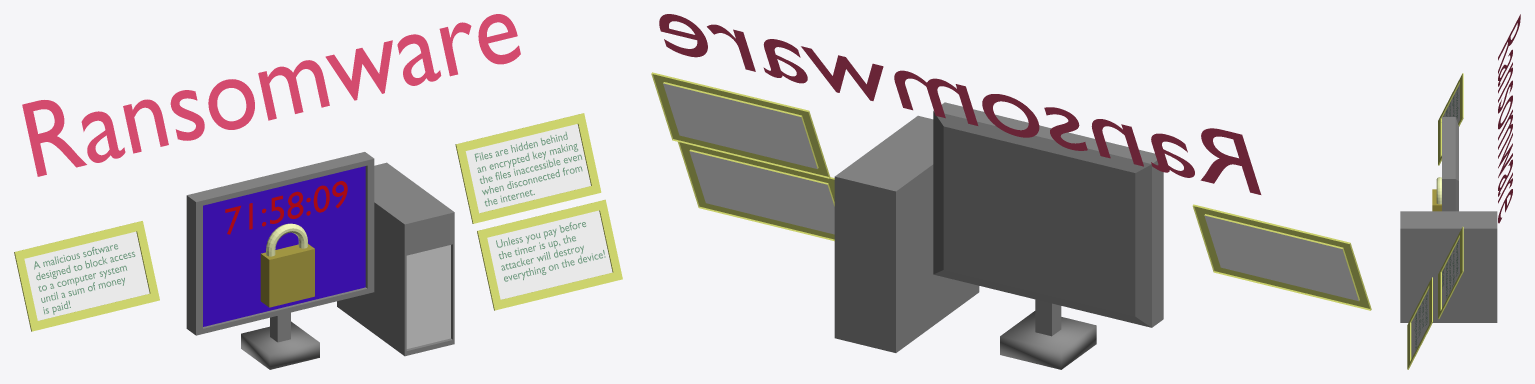
Rendered from ransomwarev3___1630909672457.glb.
3 views of the same model, side by side, from view 1: azimuth 30°, elevation 25°; view 2: azimuth 150°, elevation 25°; view 3: azimuth 270°, elevation 25° (orthographic). The views are drawn at different scales.
Visible parts, largest first — view 1: Cube.002, PC, Text, Plane.005, Plane.001, Plane.003, Cube.003, Cube, Text.001, Text.002, Text.005, Text.004 (+2 smaller); view 2: Cube.002, PC, Text, Plane.001, Plane.003, Plane.005, Cube, Cube.001; view 3: PC, Cube.002, Text, Plane.003, Plane.005, Plane.001, Text.001, Text.005, Torus, Cube.003, Text.002.
Part boxes in pixels (left/top/right/bottom): Cube.002: left=186, top=152, right=374, bottom=335; PC: left=337, top=162, right=454, bottom=356; Text: left=22, top=14, right=520, bottom=176; Plane.005: left=477, top=199, right=622, bottom=310; Plane.001: left=14, top=221, right=159, bottom=331; Plane.003: left=455, top=113, right=601, bottom=223; Cube.003: left=260, top=244, right=314, bottom=307; Cube: left=241, top=321, right=319, bottom=369; Text.001: left=474, top=131, right=582, bottom=206; Text.002: left=34, top=244, right=135, bottom=314; Text.005: left=496, top=222, right=605, bottom=281; Text.004: left=225, top=181, right=347, bottom=234; Cube.002: left=933, top=102, right=1163, bottom=327; PC: left=834, top=115, right=979, bottom=352; Text: left=659, top=14, right=1261, bottom=194; Plane.001: left=1192, top=204, right=1371, bottom=310; Plane.003: left=651, top=72, right=830, bottom=178; Plane.005: left=678, top=142, right=834, bottom=241; Cube: left=1000, top=311, right=1096, bottom=369; Cube.001: left=1035, top=299, right=1061, bottom=336; PC: left=1400, top=211, right=1497, bottom=322; Cube.002: left=1442, top=117, right=1458, bottom=211; Text: left=1498, top=14, right=1520, bottom=223; Plane.003: left=1438, top=227, right=1463, bottom=318; Plane.005: left=1407, top=277, right=1432, bottom=369; Plane.001: left=1438, top=73, right=1463, bottom=165; Text.001: left=1442, top=241, right=1458, bottom=298; Text.005: left=1414, top=292, right=1427, bottom=349; Torus: left=1436, top=177, right=1441, bottom=204; Cube.003: left=1432, top=189, right=1441, bottom=211; Text.002: left=1443, top=88, right=1458, bottom=118.
Bounding box in the file's own units: 0.2078 × 0.0917 × 0.0532.
